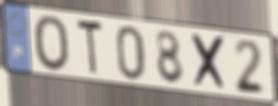0: (114, 24, 147, 82)
2: (231, 39, 267, 97)
8: (154, 29, 187, 86)
O: (32, 13, 72, 74)
T: (75, 17, 105, 78)
X: (189, 31, 230, 93)
